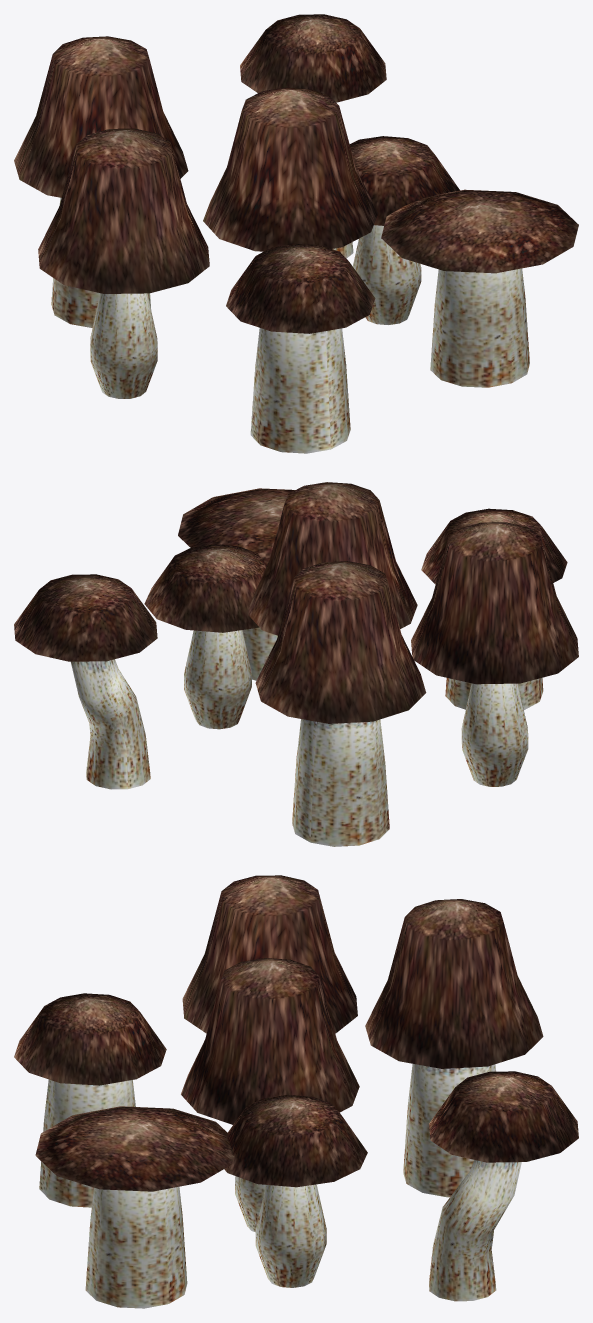
Rendered from Shroom2-3.gltf.
3 renders of one model, top to bottom at view 1: azimuth 30°, elevation 25°; view 2: azimuth 150°, elevation 25°; view 3: azimuth 270°, elevation 25°, orthographic. The views are drawn at different scales.
Parts seen in each view (by area): view 1: Shroom2-3; view 2: Shroom2-3; view 3: Shroom2-3.
Part boxes in pixels (left/top/right/bottom): Shroom2-3: left=14, top=14, right=578, bottom=453; Shroom2-3: left=14, top=482, right=578, bottom=846; Shroom2-3: left=14, top=875, right=578, bottom=1308.
Size of the model in its own units: 2.75 by 1.56 by 2.92.
Materials: 1 (1 with a texture image).
